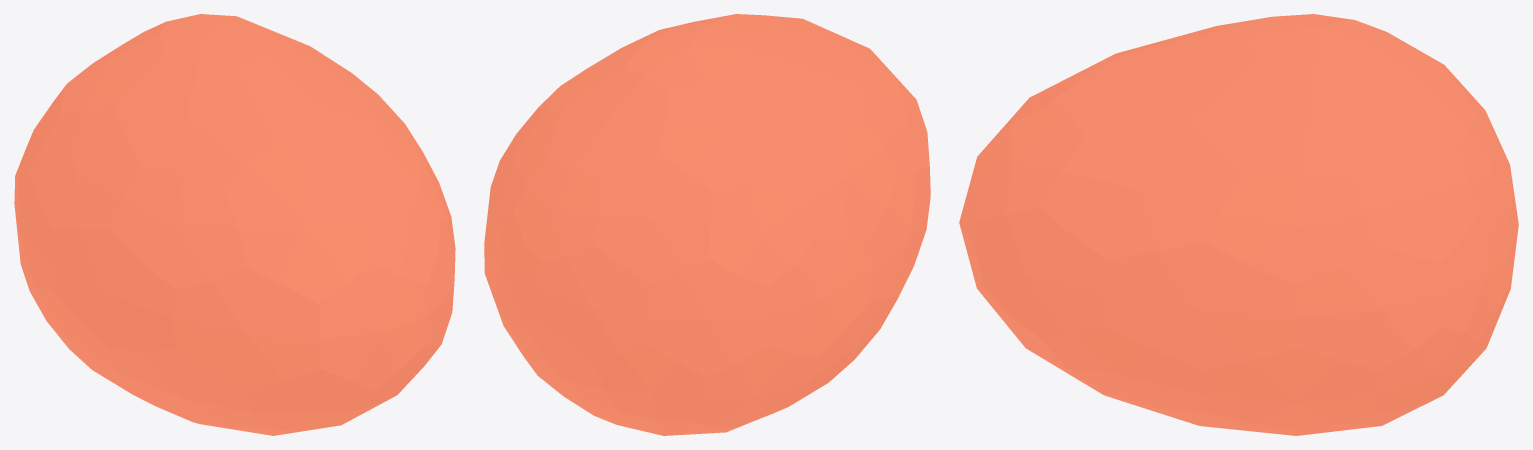
File: rock_type_02.glb
3 views of the same model, side by side, from view 1: azimuth 30°, elevation 25°; view 2: azimuth 150°, elevation 25°; view 3: azimuth 270°, elevation 25° (orthographic). The views are drawn at different scales.
Visible parts, largest first — view 1: rock_1; view 2: rock_1; view 3: rock_1.
Part boxes in pixels (<box>): rock_1: <box>14,14,455,435</box>; rock_1: <box>484,14,930,435</box>; rock_1: <box>959,14,1518,435</box>.
Size of the model in its own units: 0.804 by 0.8121 by 1.05.
